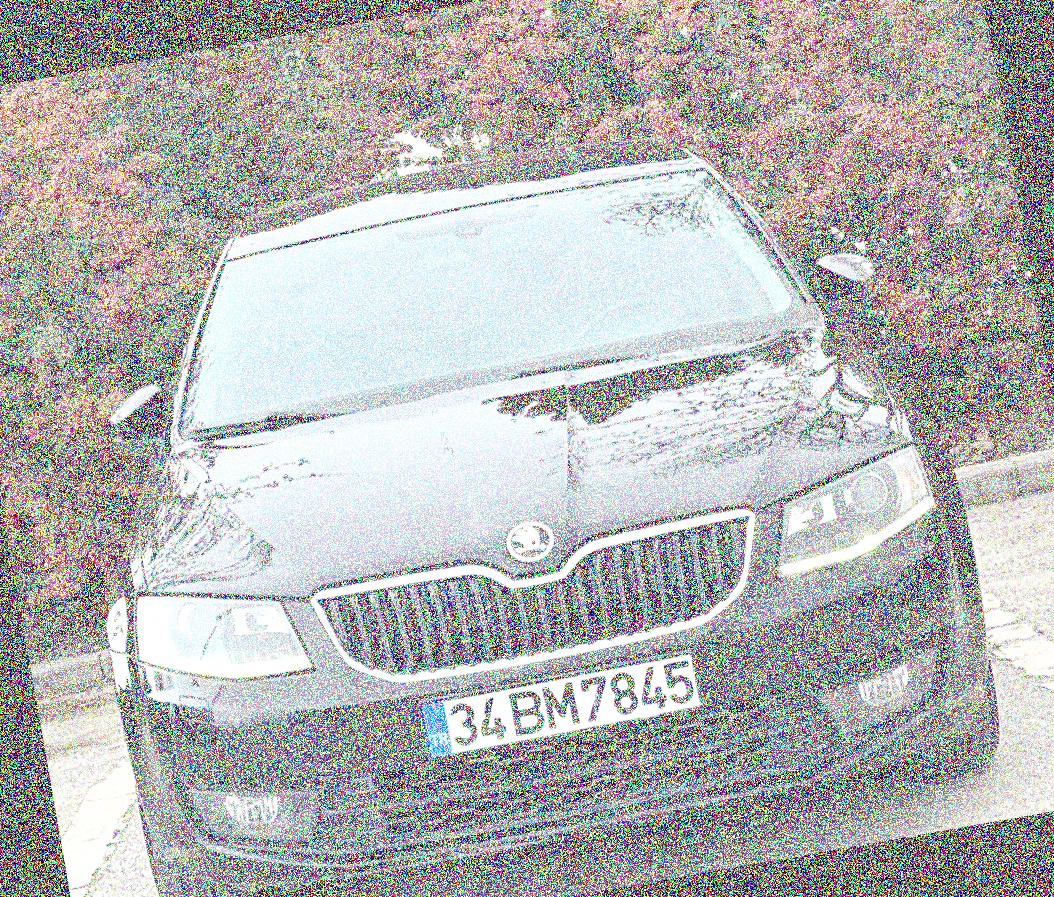plaka: (437, 654, 708, 752)
